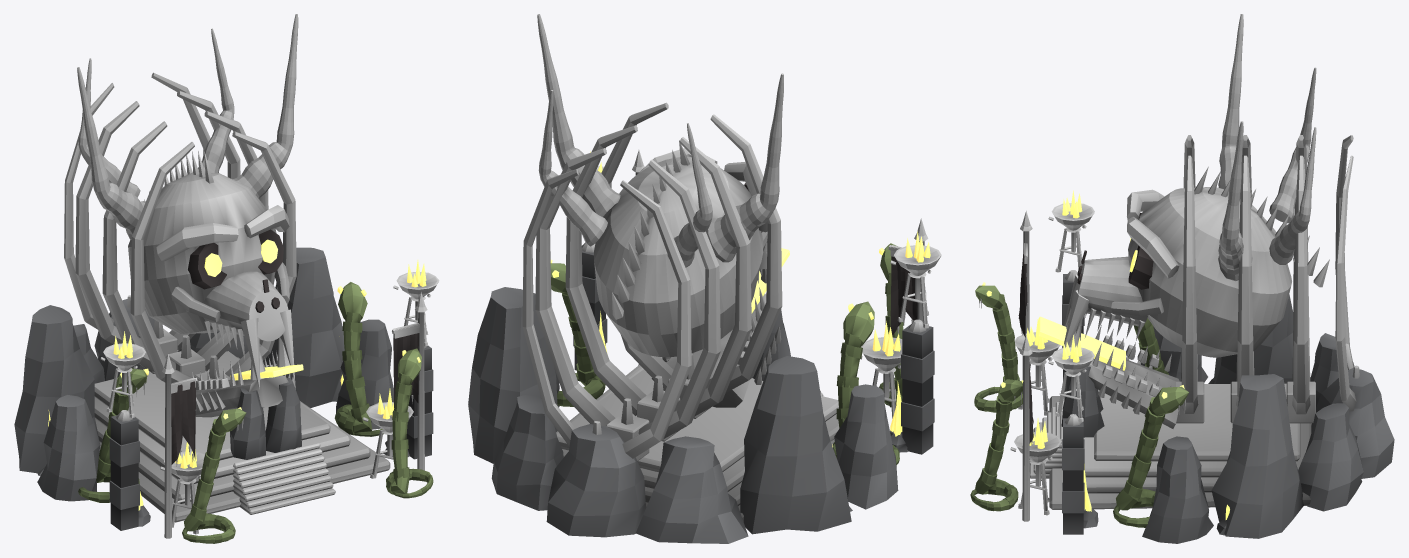
Rendered from skull-of-typhon-l3.glb.
The picture shows the model from 3 angles, left to right: view 1: azimuth 30°, elevation 25°; view 2: azimuth 150°, elevation 25°; view 3: azimuth 270°, elevation 25°; orthographic projection. The views are drawn at different scales.
Parts seen in each view (by area): view 1: skull-of-typhon-l3; view 2: skull-of-typhon-l3; view 3: skull-of-typhon-l3.
Part boxes in pixels (<box>): skull-of-typhon-l3: <box>14,14,439,543</box>; skull-of-typhon-l3: <box>468,14,941,543</box>; skull-of-typhon-l3: <box>970,14,1394,543</box>.
Bounding box in the file's own units: 1.47 × 1.57 × 1.54.
